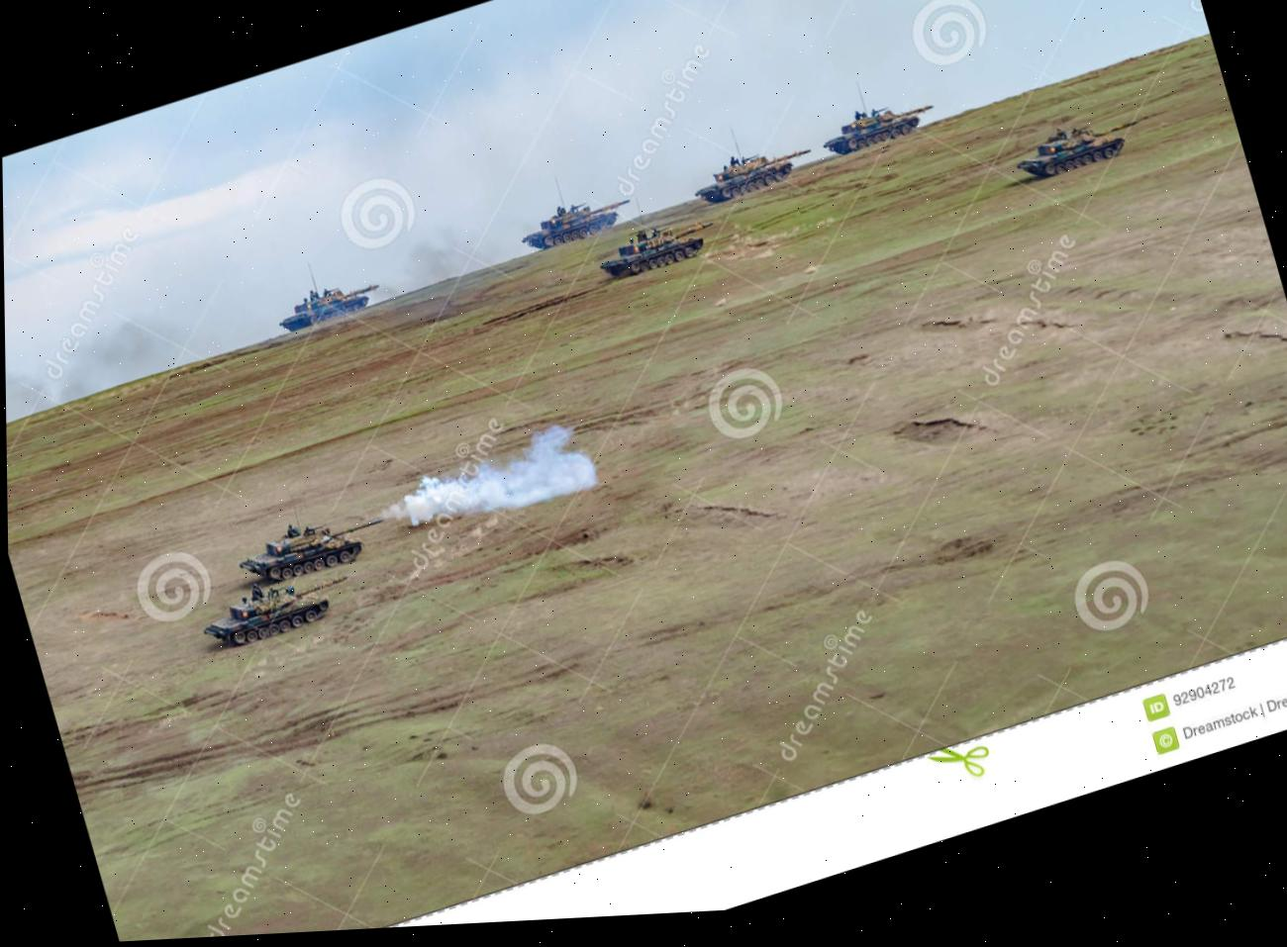tank: (233, 506, 365, 594), (197, 573, 334, 657), (686, 130, 818, 209), (815, 83, 939, 161), (589, 207, 708, 286), (514, 185, 634, 257), (1010, 112, 1128, 185), (271, 266, 384, 336)
